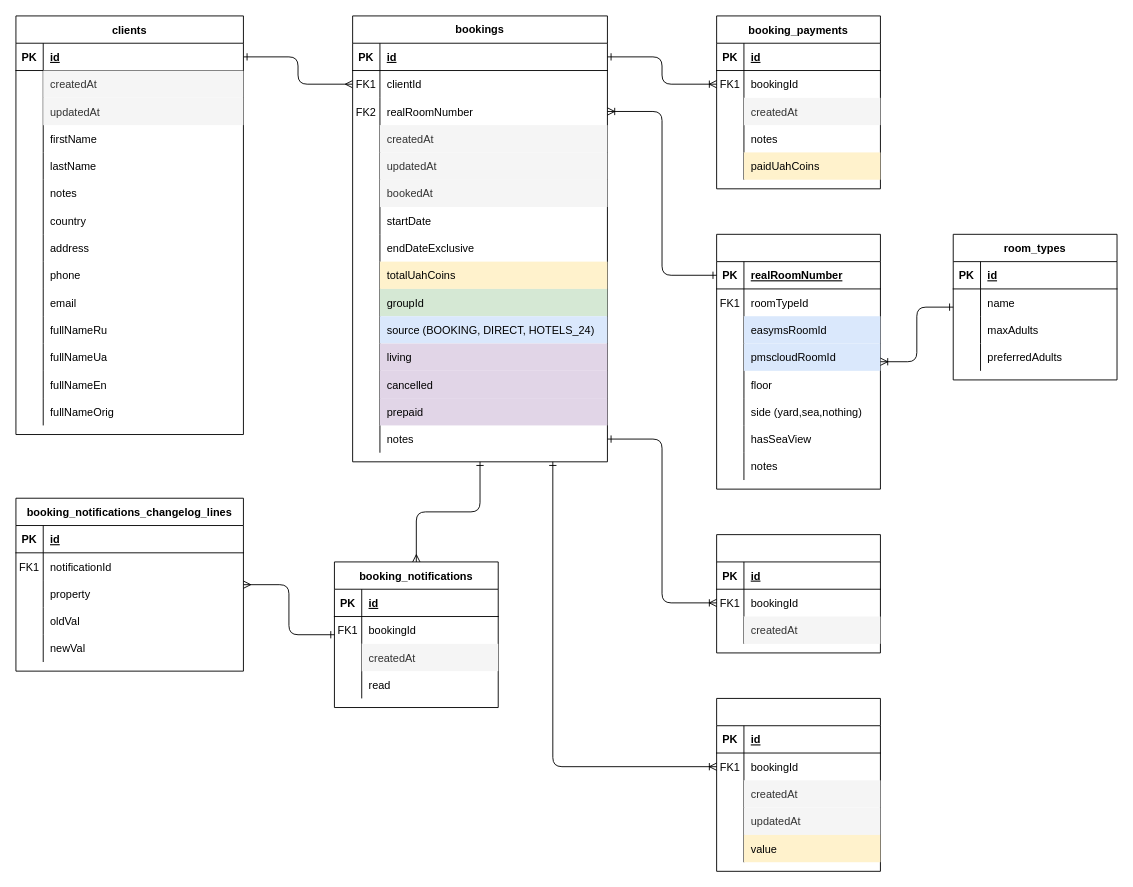
This 1133x887 diagram has some shape labels left out. Here are the shapes that lost their labels. From the top down, the box of each, then its label:
(716, 233, 880, 489): rooms
(716, 534, 880, 653): prepayment_remindings
(716, 698, 880, 871): car_plates
